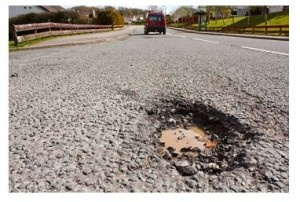pothole: (128, 87, 264, 175)
